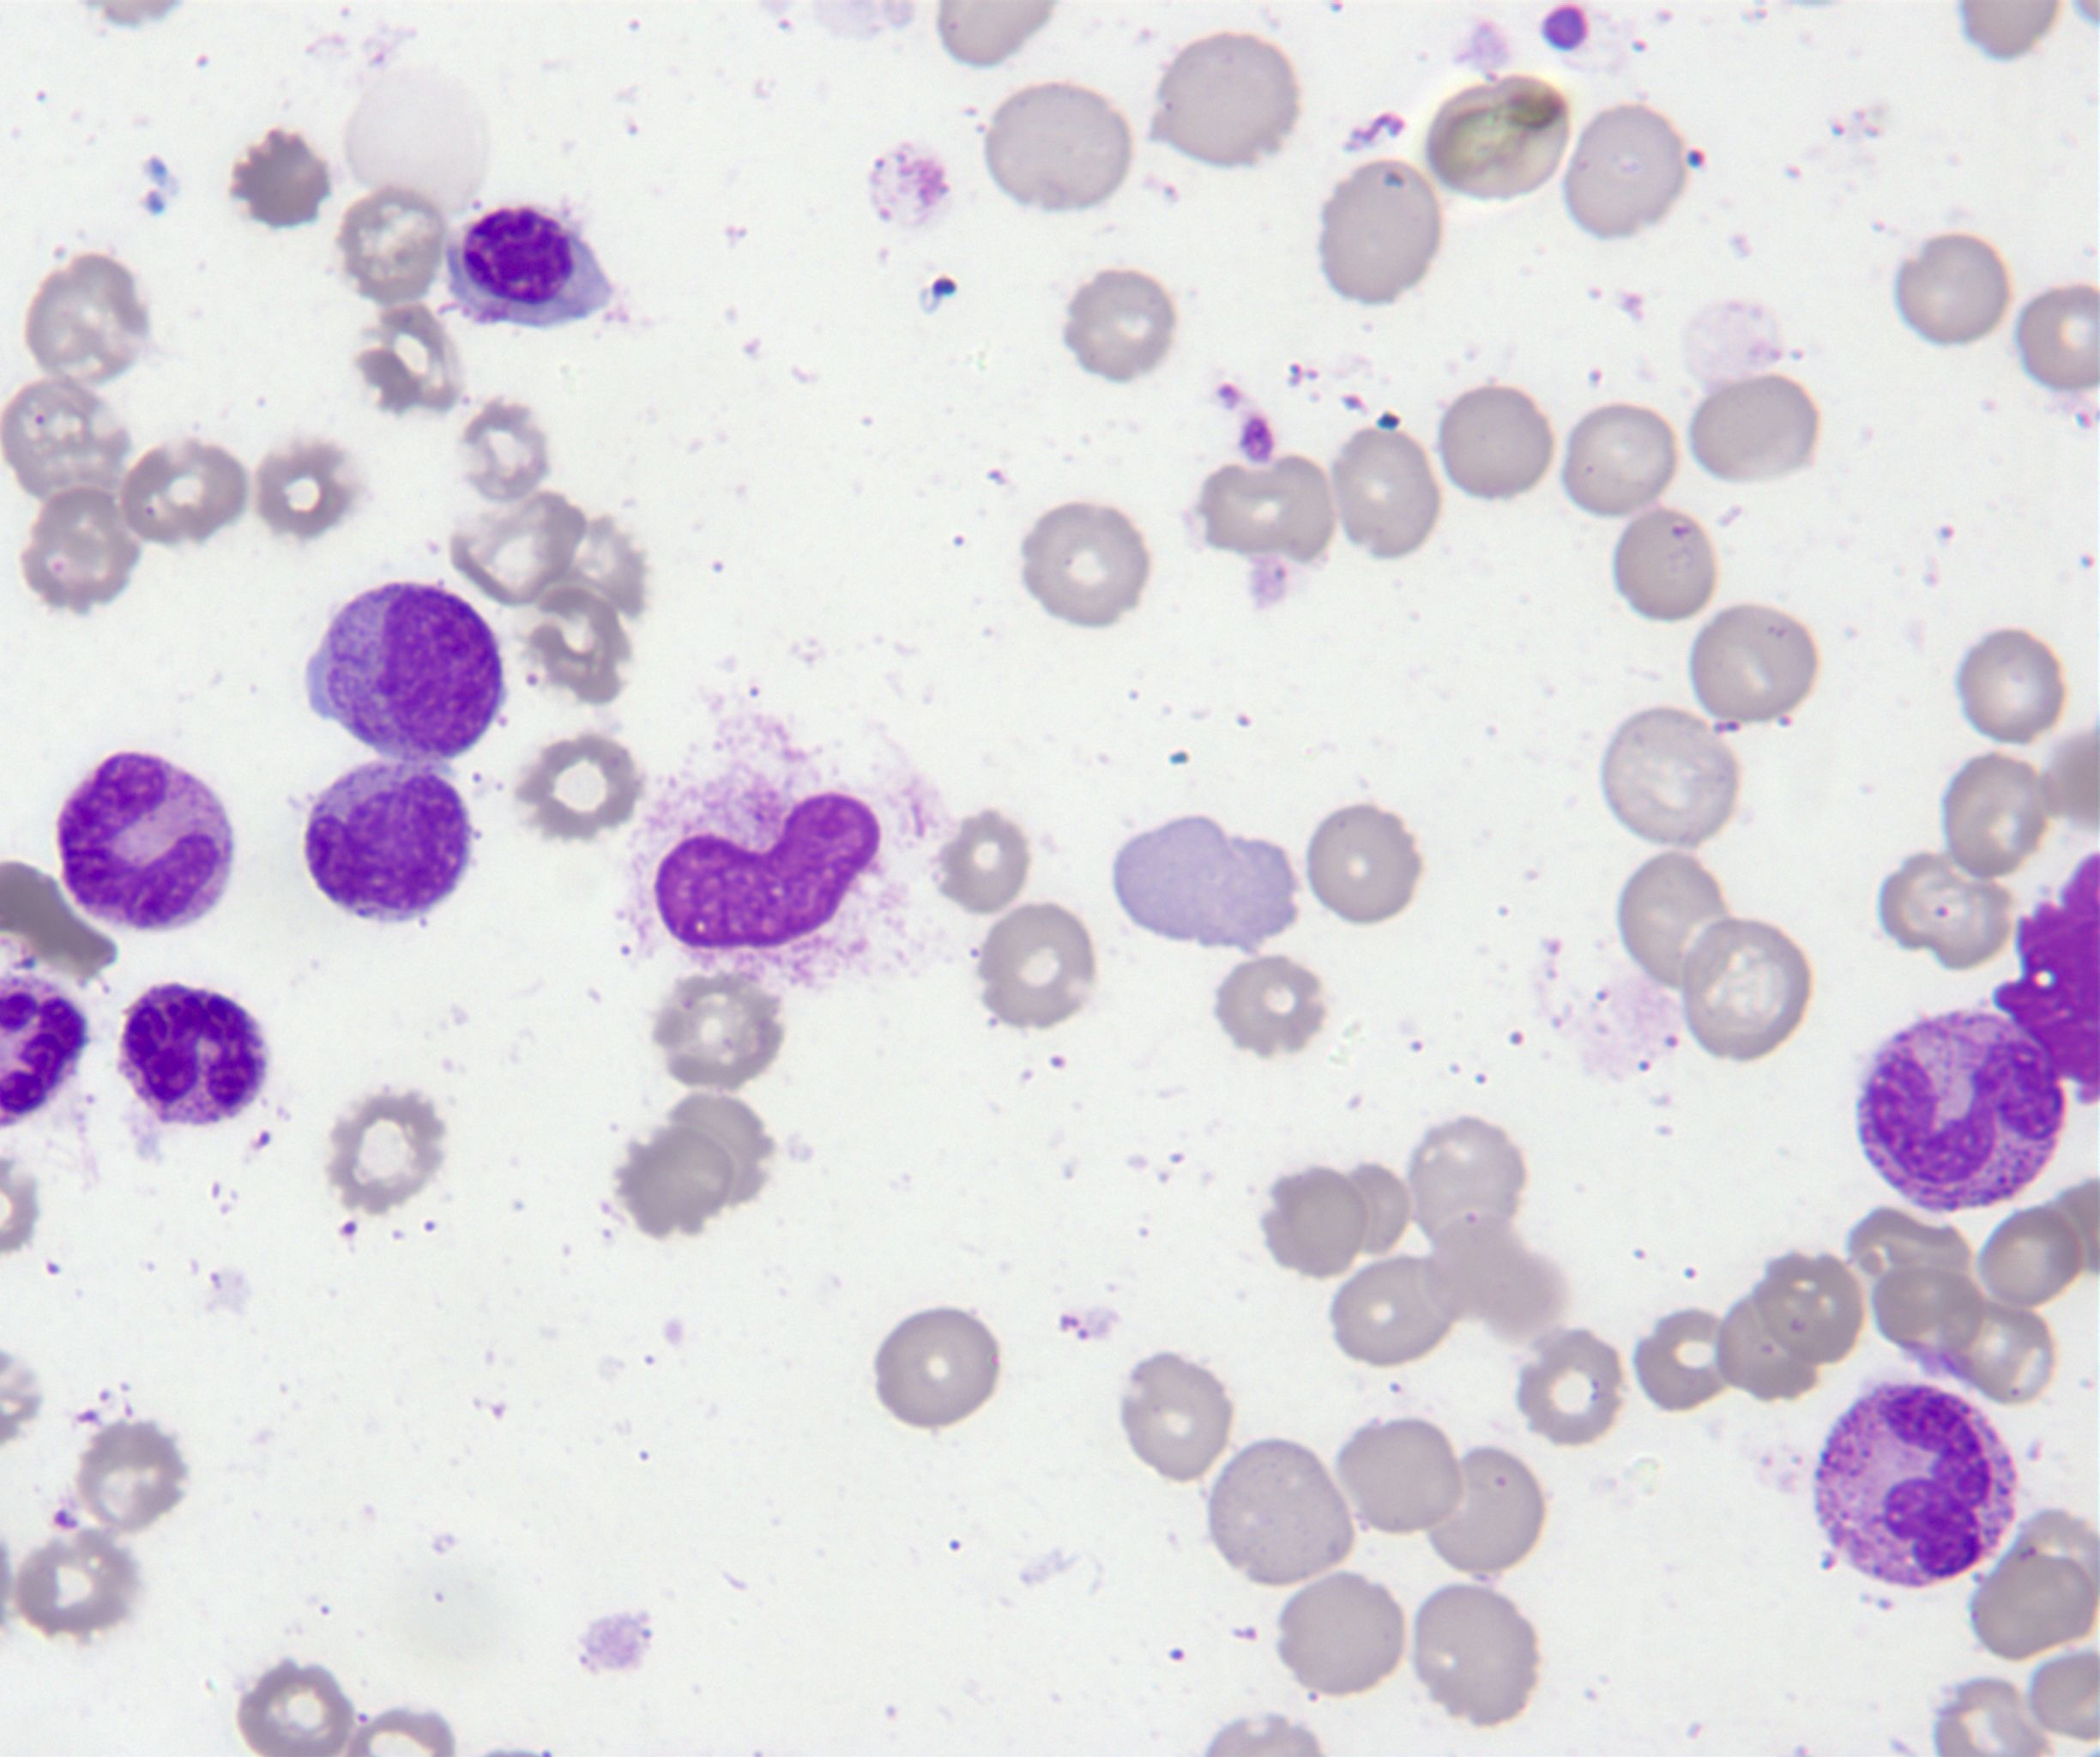24: (440, 197, 621, 332)
3: (298, 572, 508, 755)
42: (298, 757, 476, 932)
5: (42, 742, 237, 935)
6: (1803, 1378, 2025, 1593), (1851, 1007, 2070, 1221), (112, 979, 272, 1132)
x: (637, 771, 893, 975)
